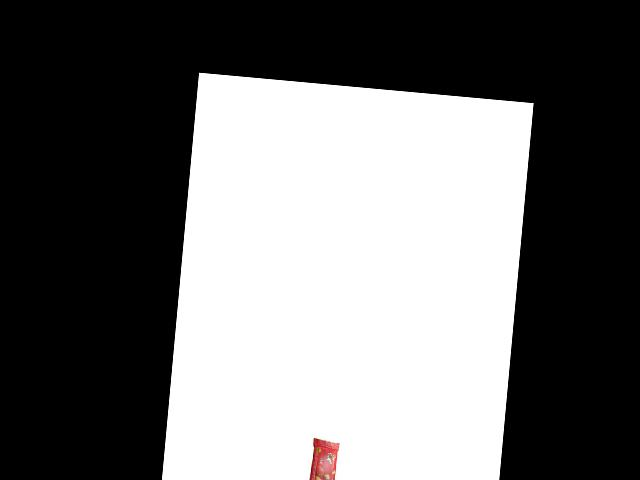chocolate: (300, 433, 342, 480)
